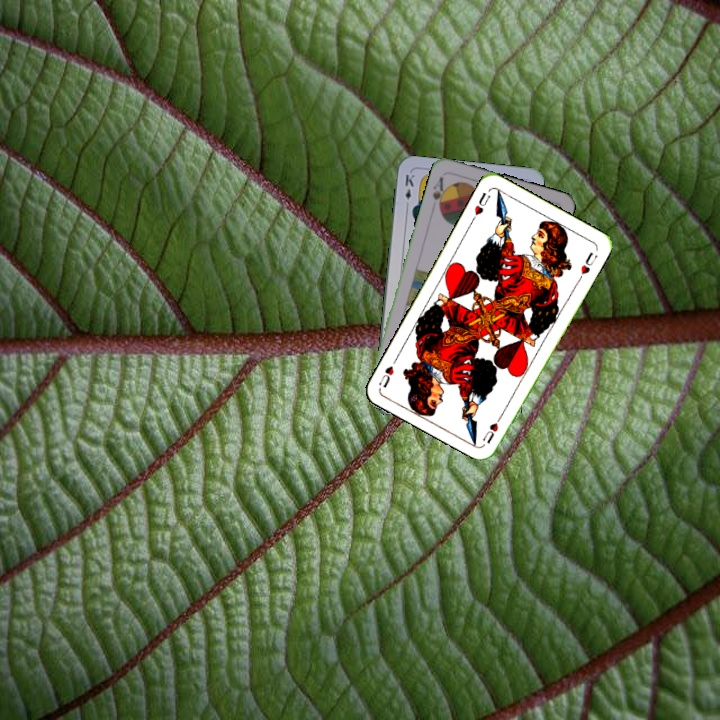EK: (401, 170, 417, 211)
HU: (479, 409, 506, 446), (468, 188, 493, 224)
SA: (429, 172, 450, 213)
